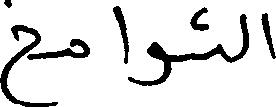X: (0, 0, 39, 106), (130, 37, 168, 90), (114, 1, 128, 84), (261, 8, 275, 63), (70, 34, 88, 62), (243, 9, 248, 60), (215, 39, 222, 61)
